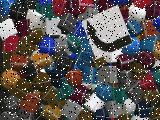Right: (81, 5, 133, 59)
